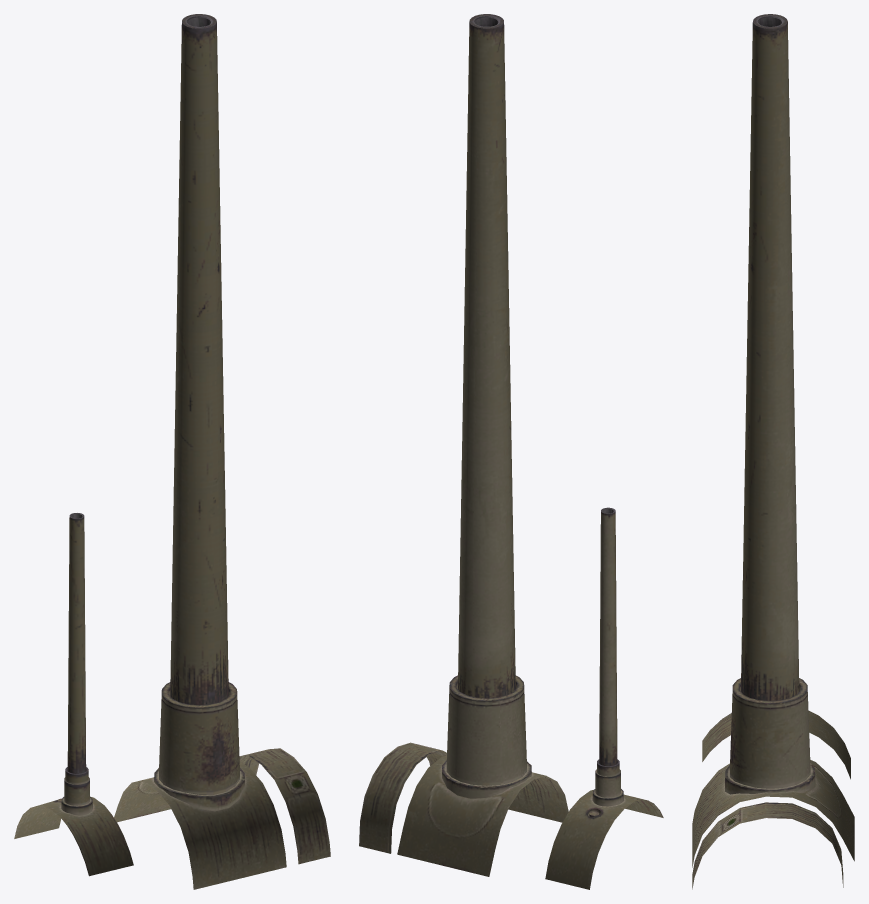
Rendered from Gun_04.glb.
3 renders of one model, left to right at view 1: azimuth 30°, elevation 25°; view 2: azimuth 150°, elevation 25°; view 3: azimuth 270°, elevation 25°, orthographic.
Visible parts, largest first — view 1: set_0_group_0; view 2: set_0_group_0; view 3: set_0_group_0.
Boxes of the visible parts, x1,y1,x2,y2 form: set_0_group_0: [14, 14, 330, 889]; set_0_group_0: [359, 14, 663, 889]; set_0_group_0: [692, 14, 854, 889].
Size of the model in its own units: 0.8881 by 2.97 by 0.5297.
Materials: 1 (1 with a texture image).
